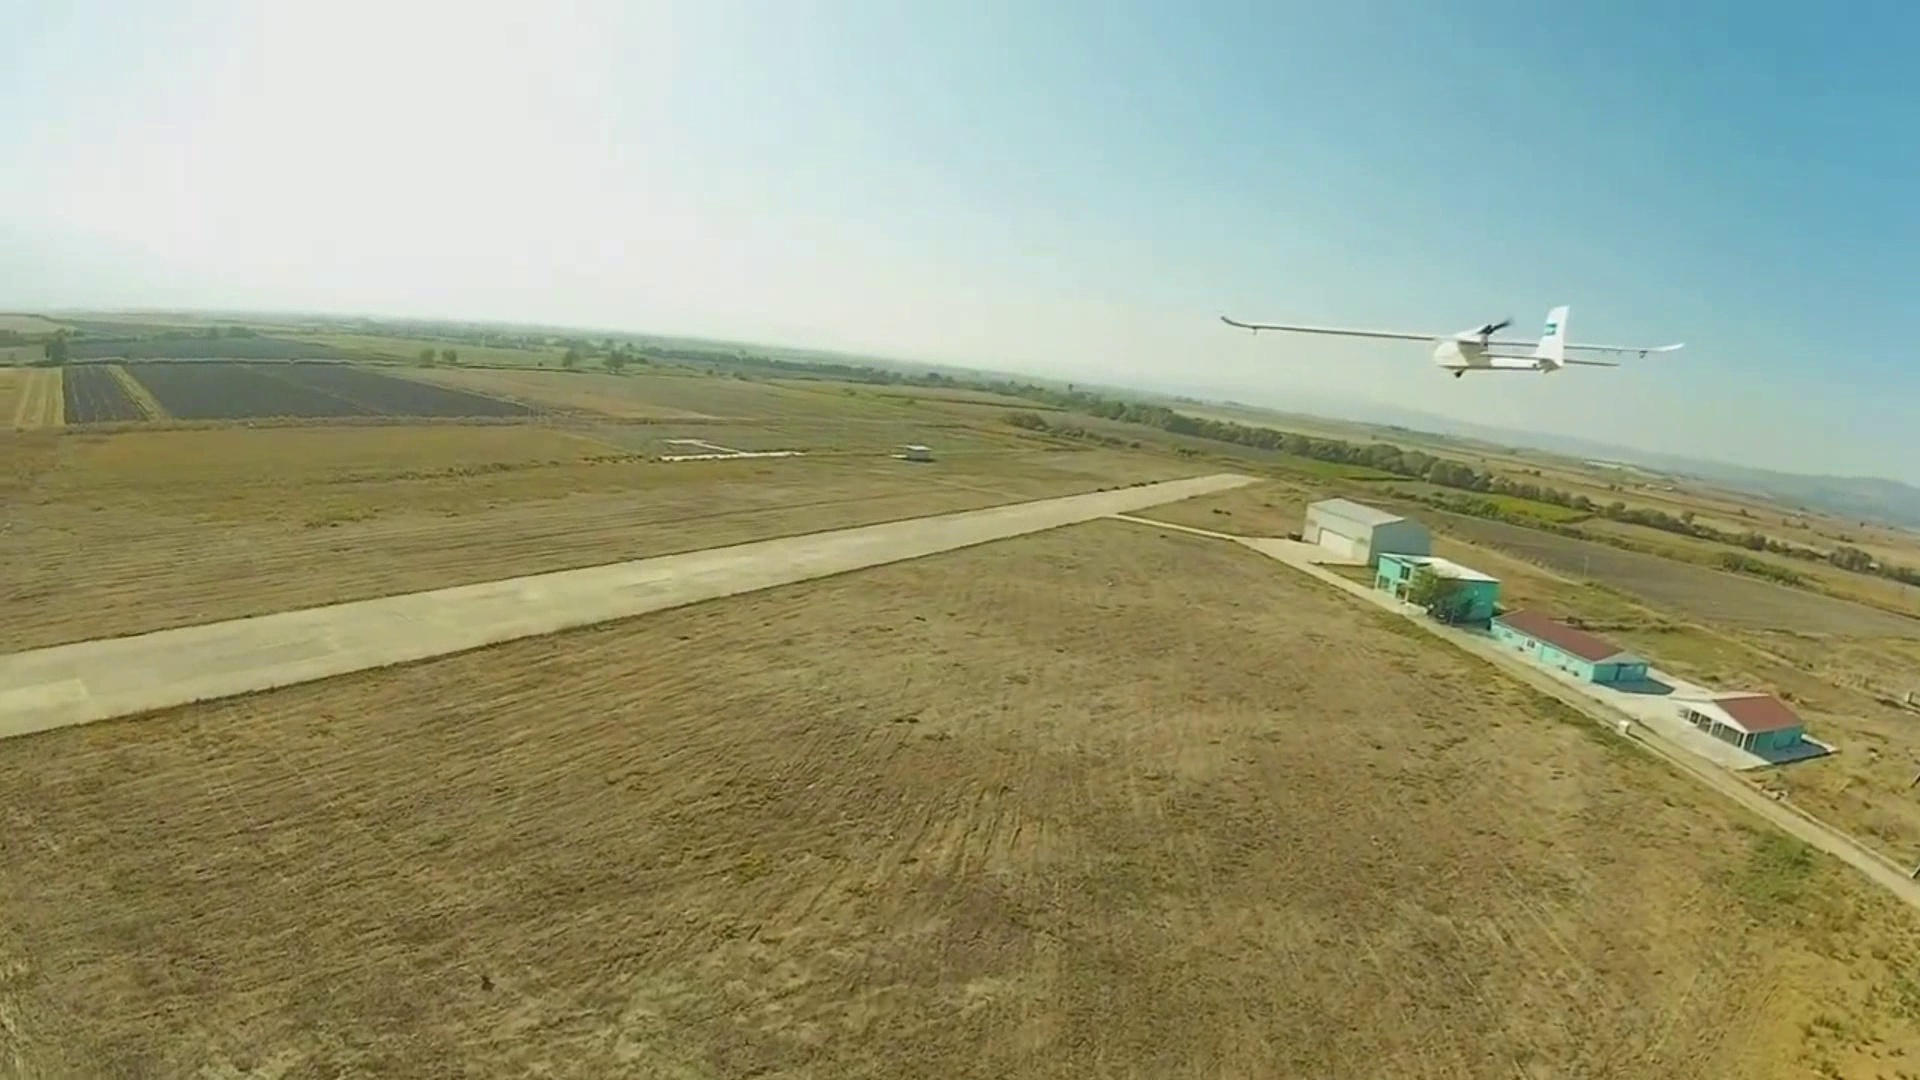airplane: (1218, 303, 1684, 378), (1433, 303, 1686, 376)
